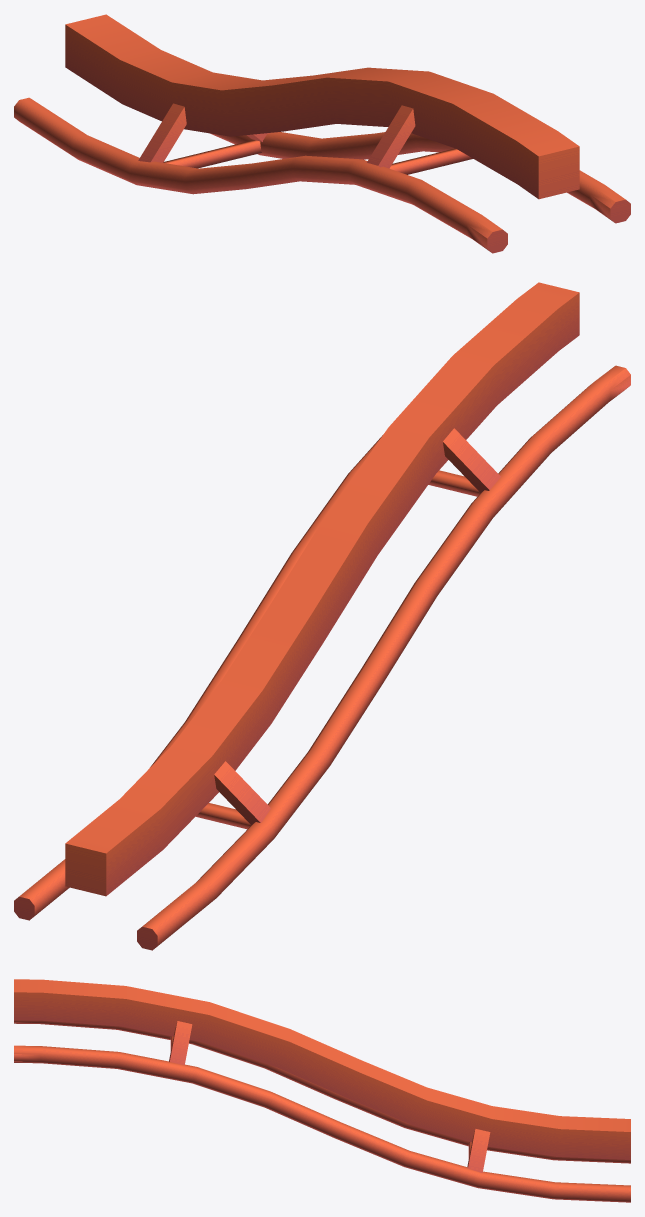
The model's file is coaster-hanging-straight-hill-complete.glb.
3 views of the same model, one above another, from view 1: azimuth 30°, elevation 25°; view 2: azimuth 150°, elevation 25°; view 3: azimuth 270°, elevation 25° (orthographic). The views are drawn at different scales.
Parts seen in each view (by area): view 1: coaster-hanging-straight-hill-complete; view 2: coaster-hanging-straight-hill-complete; view 3: coaster-hanging-straight-hill-complete.
Boxes of the visible parts, x1,y1,x2,y2 form: coaster-hanging-straight-hill-complete: (14, 14, 630, 253); coaster-hanging-straight-hill-complete: (14, 282, 630, 950); coaster-hanging-straight-hill-complete: (14, 979, 630, 1202).
Bounding box in the file's own units: 2.1 × 4.2 × 12.
1 material, 1 textured.
